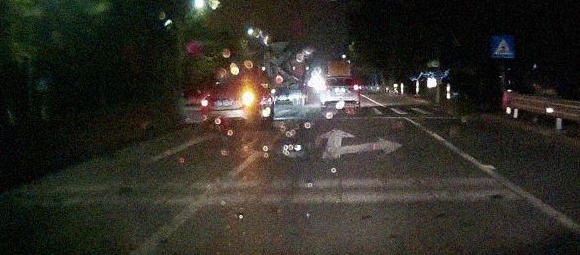L_light: (201, 98, 217, 106), (320, 87, 332, 92)
R_light: (236, 95, 253, 102), (348, 86, 360, 91)
T_light: (229, 81, 240, 83), (337, 77, 346, 78)
night-no: (320, 75, 360, 115)
night-right: (200, 80, 257, 129)
